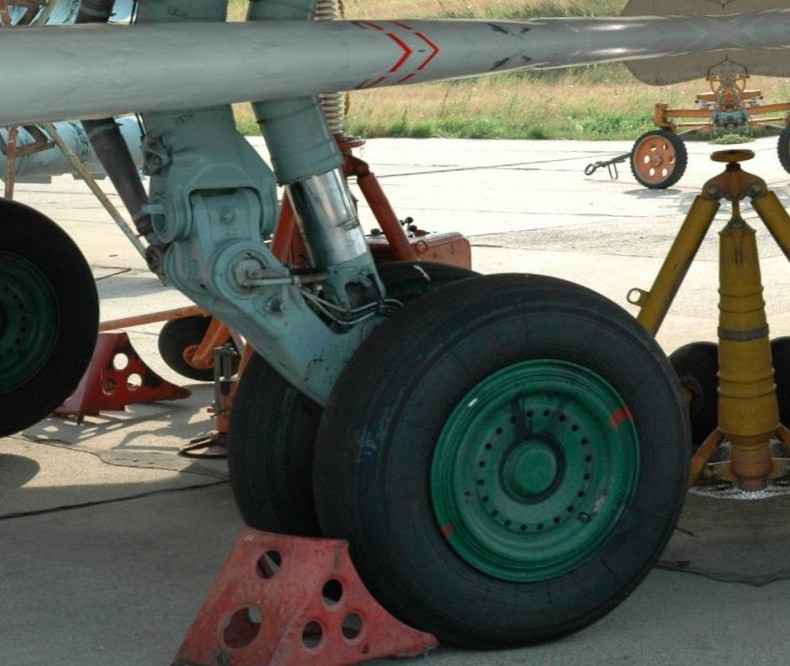chock: (151, 514, 443, 666)
wheel: (301, 260, 708, 659), (0, 181, 106, 448)
